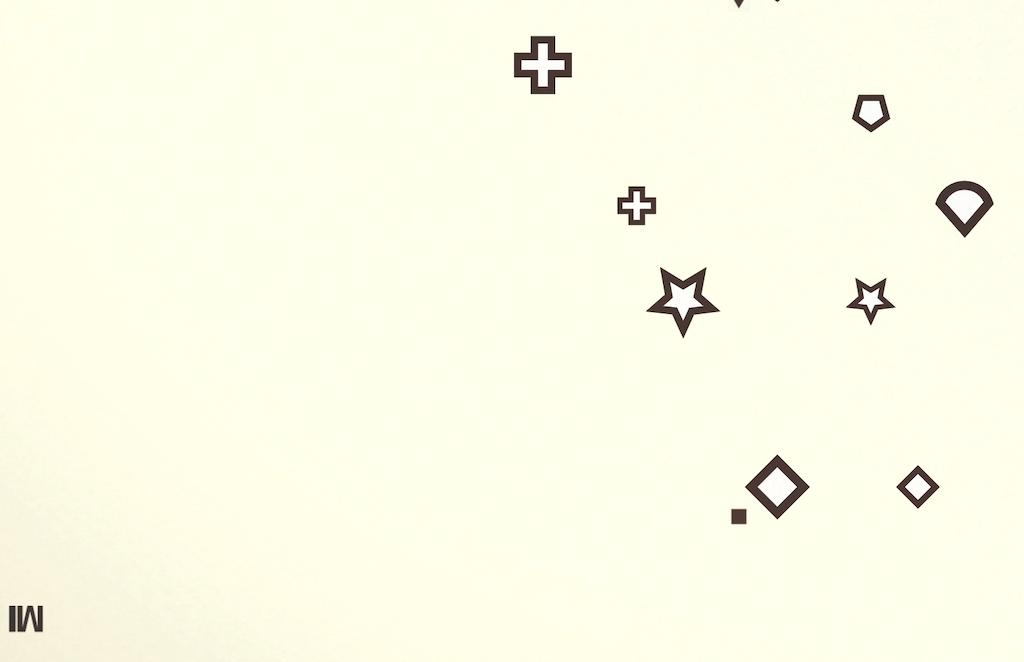unconnected_station: (638, 263, 740, 371), (726, 448, 840, 528), (585, 154, 687, 242), (496, 28, 588, 112), (919, 174, 1007, 246), (832, 262, 912, 334), (834, 75, 912, 143), (892, 449, 954, 520), (727, 0, 821, 13)
